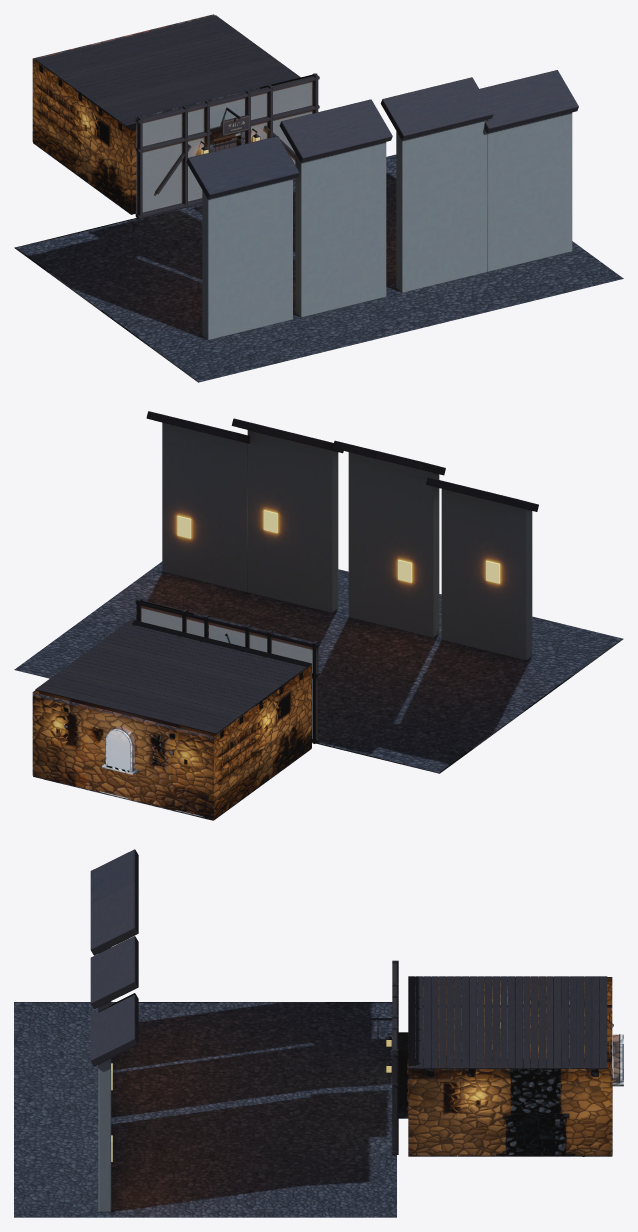
The model's file is tavern.glb.
3 renders of one model, top to bottom at view 1: azimuth 30°, elevation 25°; view 2: azimuth 150°, elevation 25°; view 3: azimuth 270°, elevation 25°, orthographic. The views are drawn at different scales.
Visible parts, largest first — view 1: B_exterior, B_exterior_d1, B_ceiling, B_walls_side_d0, B_exterior_d0, B_walls_front_d0; view 2: B_exterior, B_exterior_d1, B_ceiling, B_walls_back_d0, B_walls_side_d0, B_exterior_d0, B_walls_back; view 3: B_exterior_d1, B_ceiling, B_walls_side_d1, B_exterior, B_hearth_d0, B_walls_side_d0, B_walls_front, B_walls_back_d0.
Boxes of the visible parts, left/top/right/bottom form: B_exterior: left=135, top=70, right=578, bottom=339; B_exterior_d1: left=14, top=154, right=623, bottom=382; B_ceiling: left=35, top=15, right=300, bottom=130; B_walls_side_d0: left=32, top=59, right=130, bottom=213; B_exterior_d0: left=136, top=73, right=317, bottom=217; B_walls_front_d0: left=131, top=129, right=240, bottom=213; B_exterior: left=135, top=411, right=538, bottom=743; B_exterior_d1: left=14, top=561, right=623, bottom=773; B_ceiling: left=35, top=619, right=311, bottom=754; B_walls_back_d0: left=32, top=692, right=213, bottom=819; B_walls_side_d0: left=213, top=664, right=311, bottom=819; B_exterior_d0: left=136, top=599, right=317, bottom=743; B_walls_back: left=102, top=728, right=138, bottom=774; B_exterior_d1: left=14, top=1002, right=396, bottom=1217; B_ceiling: left=408, top=976, right=613, bottom=1080; B_walls_side_d1: left=408, top=1069, right=612, bottom=1155; B_exterior: left=90, top=849, right=398, bottom=1211; B_hearth_d0: left=511, top=1060, right=560, bottom=1112; B_walls_side_d0: left=415, top=977, right=612, bottom=1058; B_walls_front: left=398, top=1032, right=408, bottom=1118; B_walls_back_d0: left=612, top=1034, right=623, bottom=1081.
Bounding box in the file's own units: 16 × 6.66 × 19.11.
Materials: 16 (16 with a texture image).
